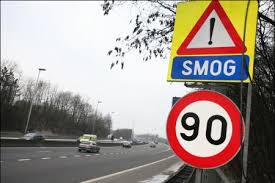Speed_limit_90km: (167, 90, 245, 168)
